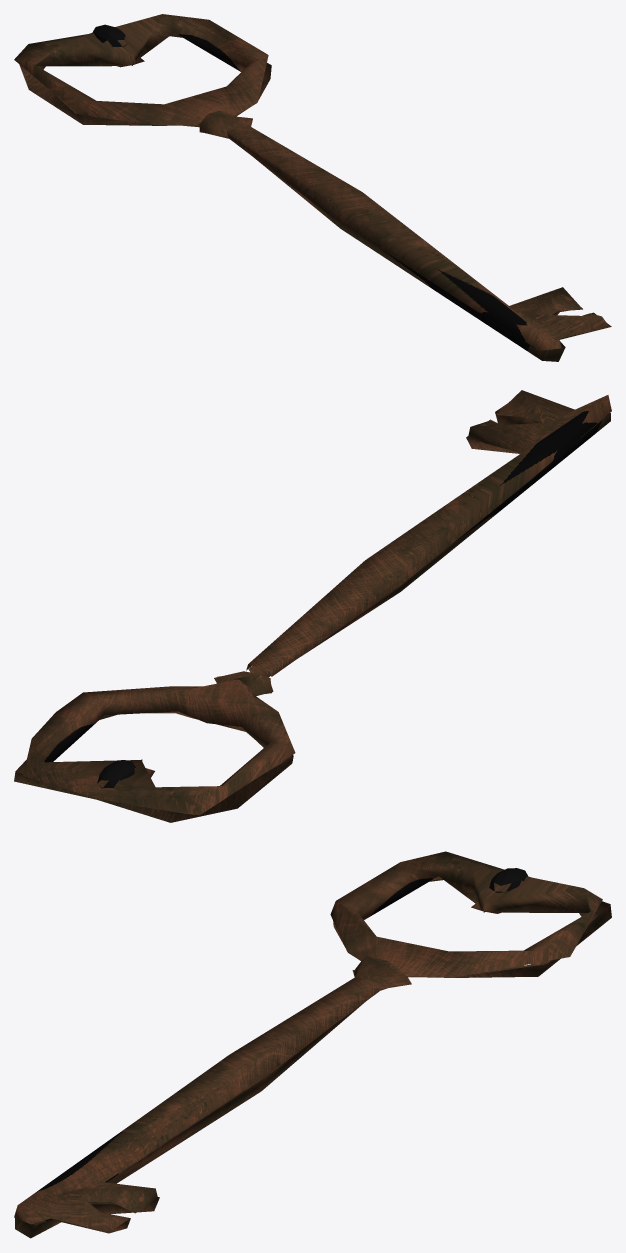
3 renders of one model, top to bottom at view 1: azimuth 30°, elevation 25°; view 2: azimuth 150°, elevation 25°; view 3: azimuth 330°, elevation 25°, orthographic. The views are drawn at different scales.
Parts seen in each view (by area): view 1: Key; view 2: Key; view 3: Key.
Part boxes in pixels (x1,y1,x2,y2): Key: (14, 14, 611, 361); Key: (14, 390, 611, 822); Key: (14, 851, 611, 1238).
Bounding box in the file's own units: 15.47 × 3.33 × 60.45.
Materials: 1 (1 with a texture image).
